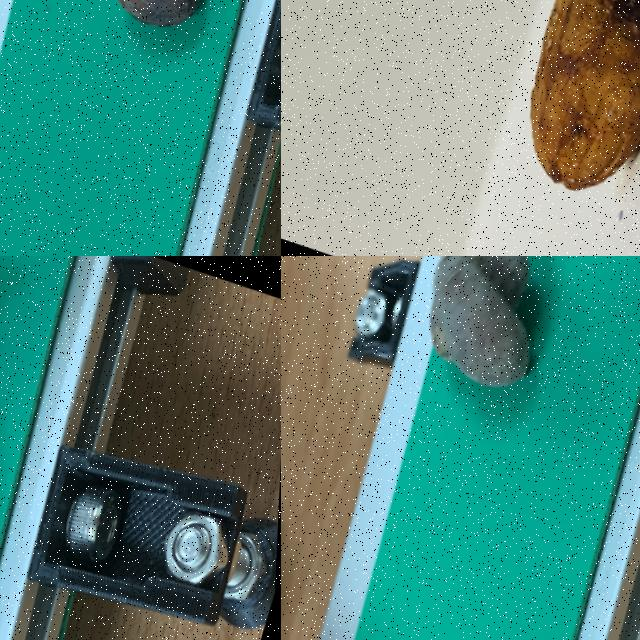Agglomerated_cocoabeans: (353, 256, 629, 492), (0, 256, 84, 639)
Fine_cocoabeans: (470, 0, 639, 255), (52, 0, 260, 106)
